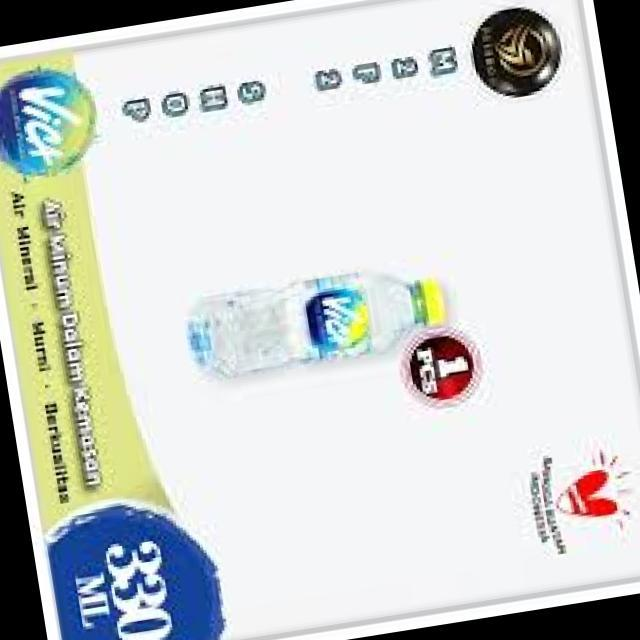good: (167, 225, 479, 415)
